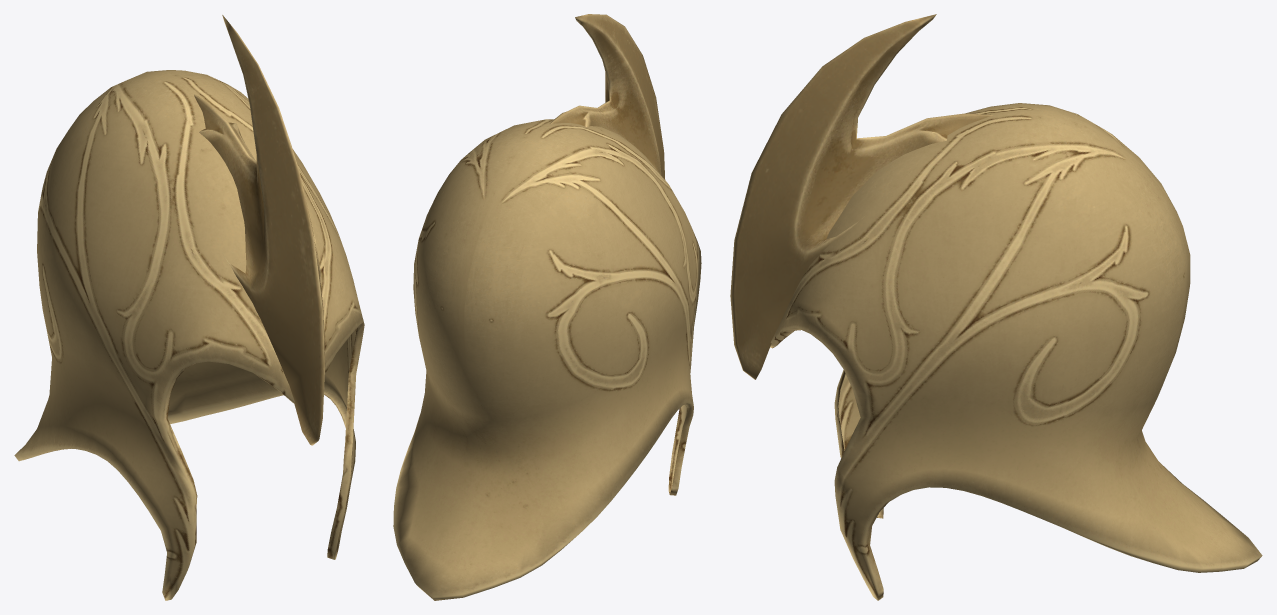
The model's file is rivendell_helmet_archer_tier3.fbx.
3 renders of one model, left to right at view 1: azimuth 30°, elevation 25°; view 2: azimuth 150°, elevation 25°; view 3: azimuth 270°, elevation 25°, orthographic. The views are drawn at different scales.
Visible parts, largest first — view 1: rivendell_helmet_archer_tier3.1, rivendell_helmet_archer_tier3.0; view 2: rivendell_helmet_archer_tier3.1, rivendell_helmet_archer_tier3.0; view 3: rivendell_helmet_archer_tier3.1, rivendell_helmet_archer_tier3.0.
Boxes of the visible parts, x1,y1,x2,y2 form: rivendell_helmet_archer_tier3.1: [14, 70, 364, 600]; rivendell_helmet_archer_tier3.0: [194, 15, 325, 445]; rivendell_helmet_archer_tier3.1: [393, 119, 701, 600]; rivendell_helmet_archer_tier3.0: [550, 14, 665, 179]; rivendell_helmet_archer_tier3.1: [770, 103, 1262, 600]; rivendell_helmet_archer_tier3.0: [730, 14, 992, 379].
Size of the model in its own units: 0.1912 by 0.3477 by 0.3947.
2 materials, 2 textured.
